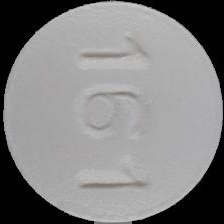31722-551: (0, 0, 224, 224)
